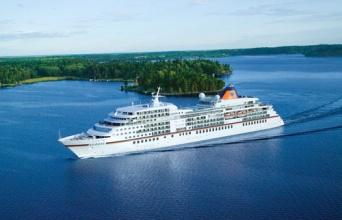youlun: (56, 85, 286, 162)
